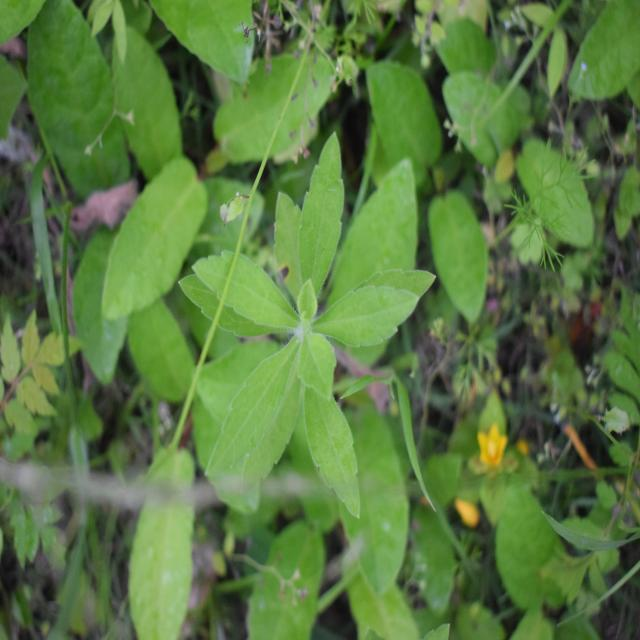horseweed: (190, 164, 430, 526)
